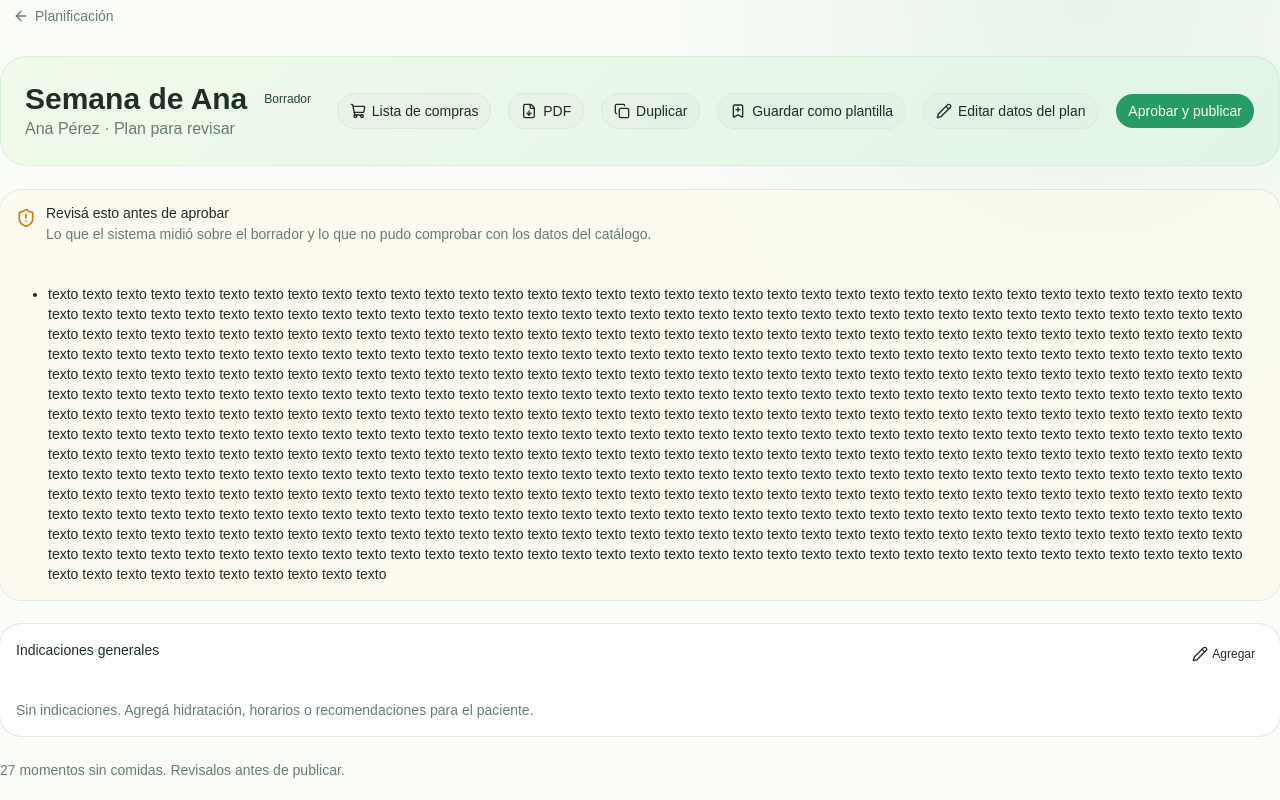
Test: Revisión del plan › colapsa el detalle extenso y mantiene las acciones fuera del área desplazable
This screenshot has width=1280, height=800.
Click the button "Aprobar y publicar" at (1185, 111), box top-left (1115, 93), bottom-right (1255, 129)
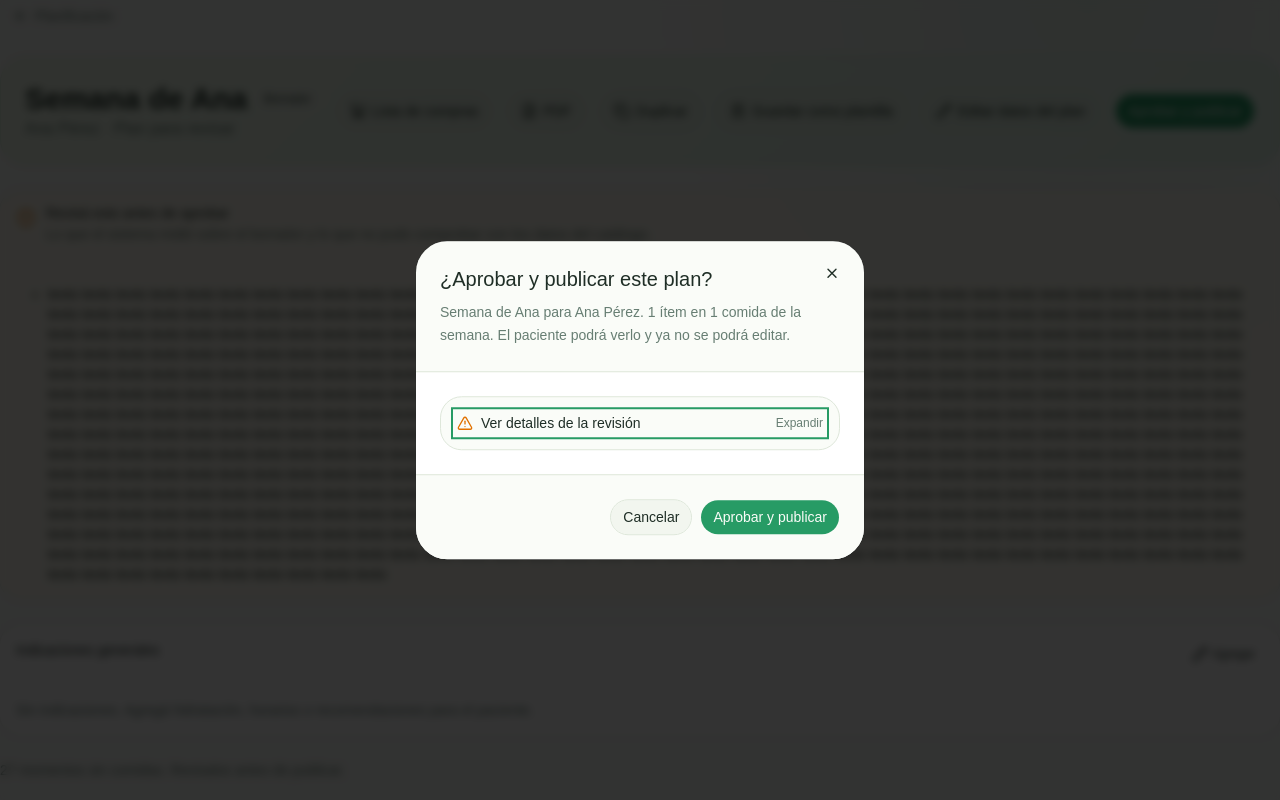
Expected: the button "Cancelar" is shown, top-left (610, 499), bottom-right (692, 535)
Expected: the button "Aprobar y publicar" is shown, top-left (700, 499), bottom-right (840, 535)
